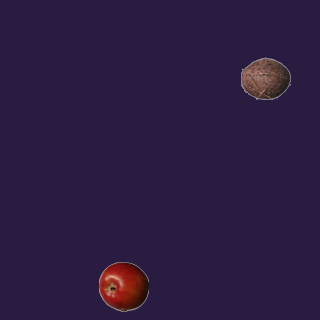Apple Braeburn: (98, 261, 148, 311)
Cocos: (240, 53, 290, 103)
